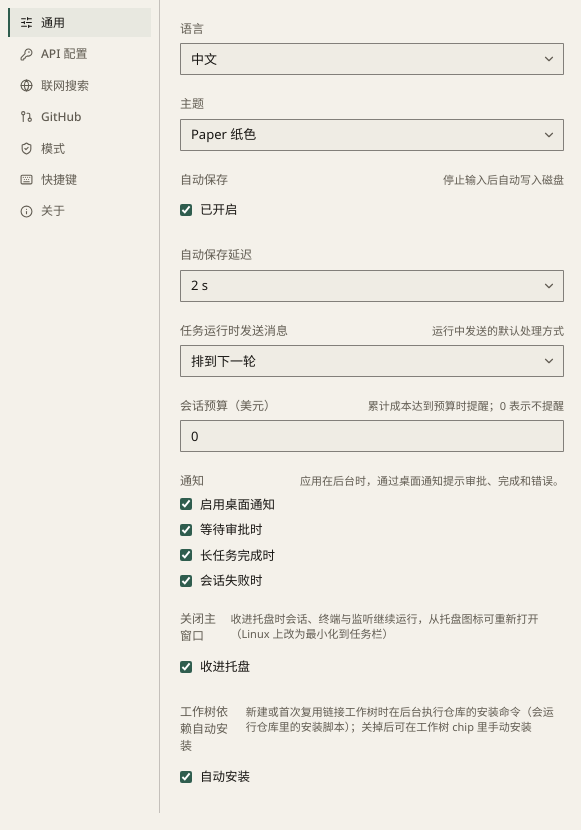
Test: close to tray setting › turns the option off and persists it to settings.json
The image size is (581, 830).
Click the checkbox labelled "收进托盘" at (186, 666), box [180,660,192,672]
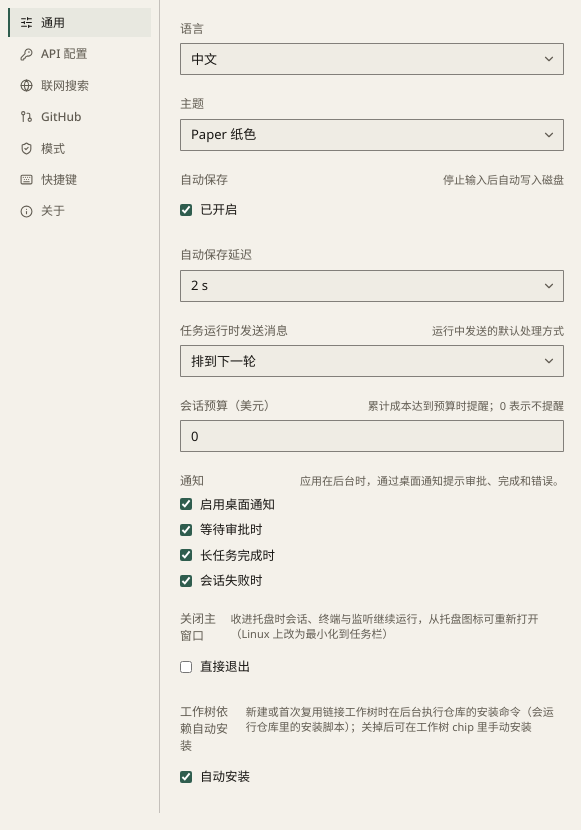
Expected: the text "直接退出" is shown, [180,658,250,675]
